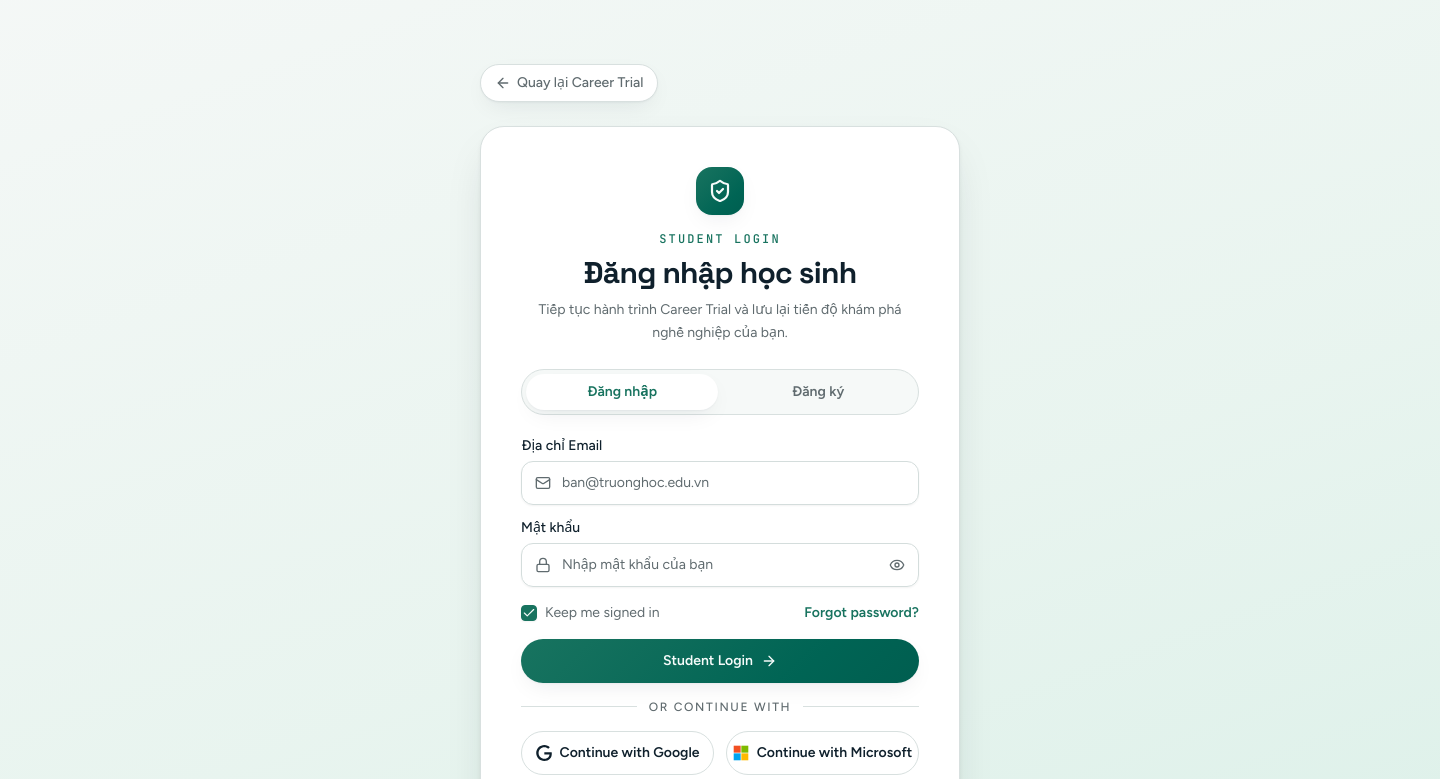
Test: LoginPage › rejects an invalid email and a short password
Expected: the heading "Đăng nhập học sinh" is shown, [584,255,856,291]
Type "khong-phai-email" into the field labelled "Địa chỉ Email" at (720, 482), box [521,460,919,504]
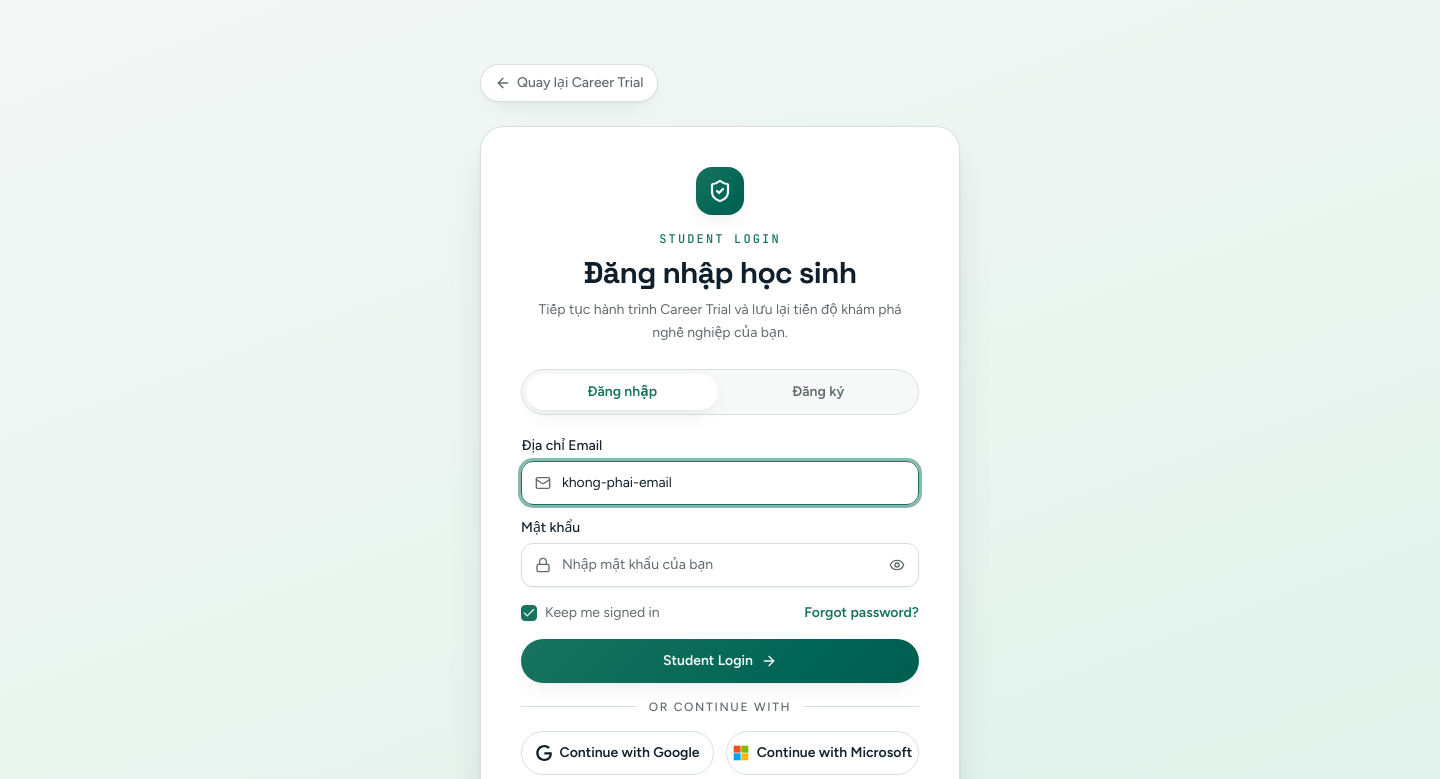
Type "123" into the password field labelled "Mật khẩu" at (720, 564), box [521,542,919,586]
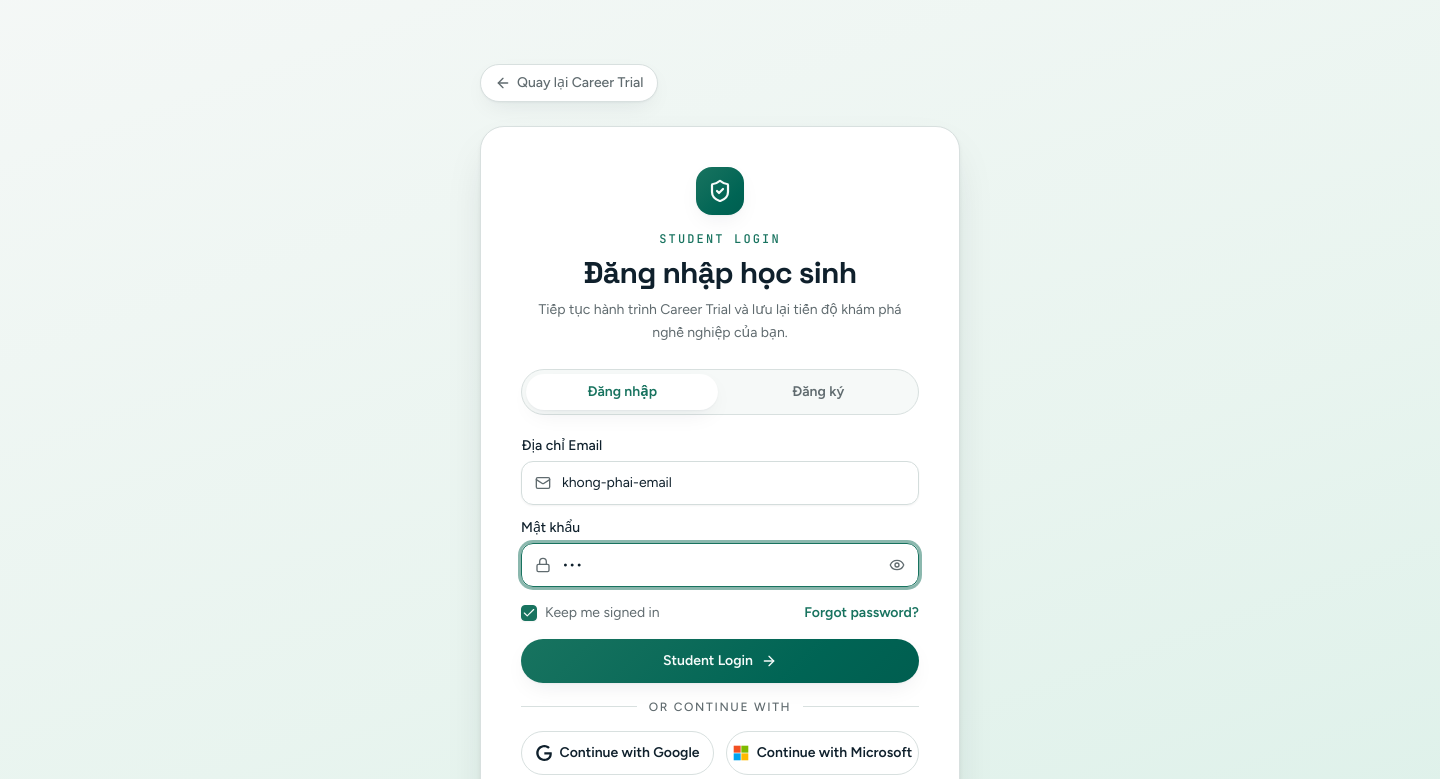
Click the button "Student Login" at (720, 660), box [521,638,919,682]
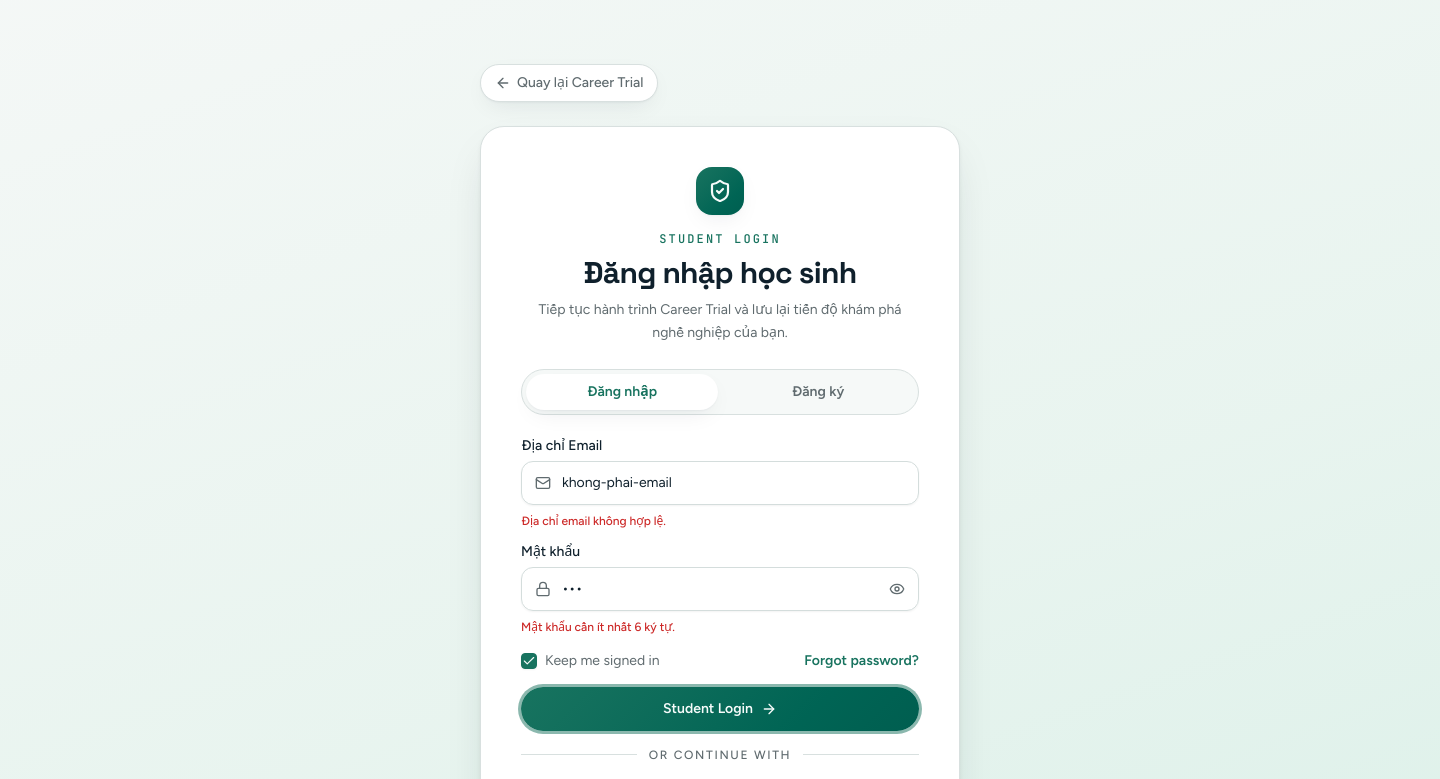
Now the text "Địa chỉ email không hợp lệ." is shown, box [521,514,666,528]
Now the text "Mật khẩu cần ít nhất 6 ký tự." is shown, box [521,620,675,634]
